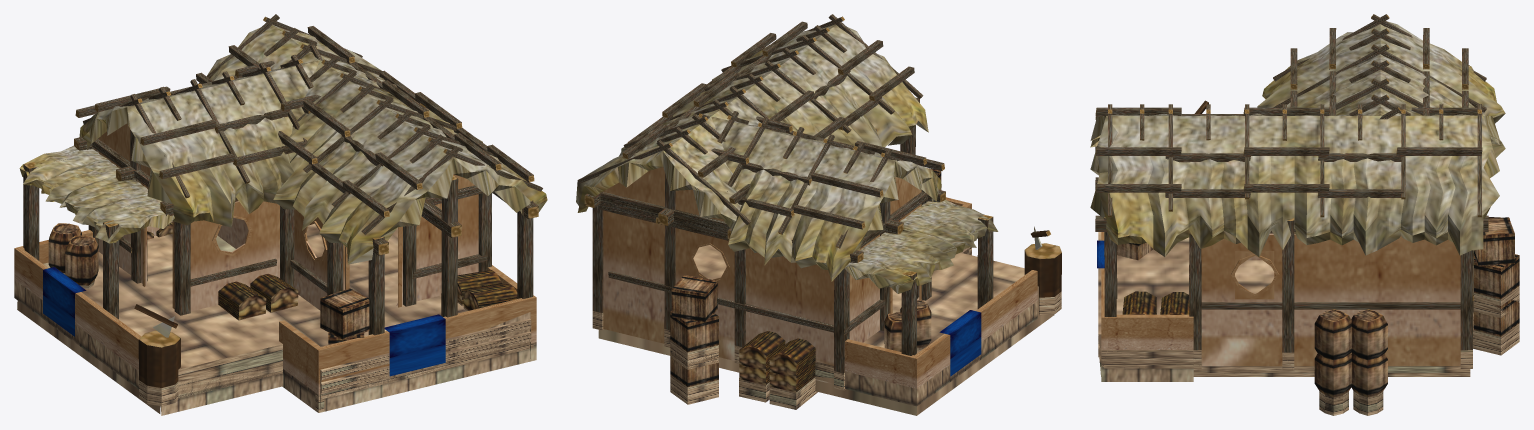
The model's file is storehouse.dae.
3 views of the same model, side by side, from view 1: azimuth 30°, elevation 25°; view 2: azimuth 150°, elevation 25°; view 3: azimuth 270°, elevation 25° (orthographic). The views are drawn at different scales.
Visible parts, largest first — view 1: storehouse; view 2: storehouse; view 3: storehouse.
Boxes of the visible parts, x1=… form: storehouse: x1=14, y1=14, x2=547, y2=415; storehouse: x1=576, y1=14, x2=1061, y2=415; storehouse: x1=1090, y1=14, x2=1519, y2=415.
Size of the model in its own units: 17.94 by 16.87 by 11.14.
